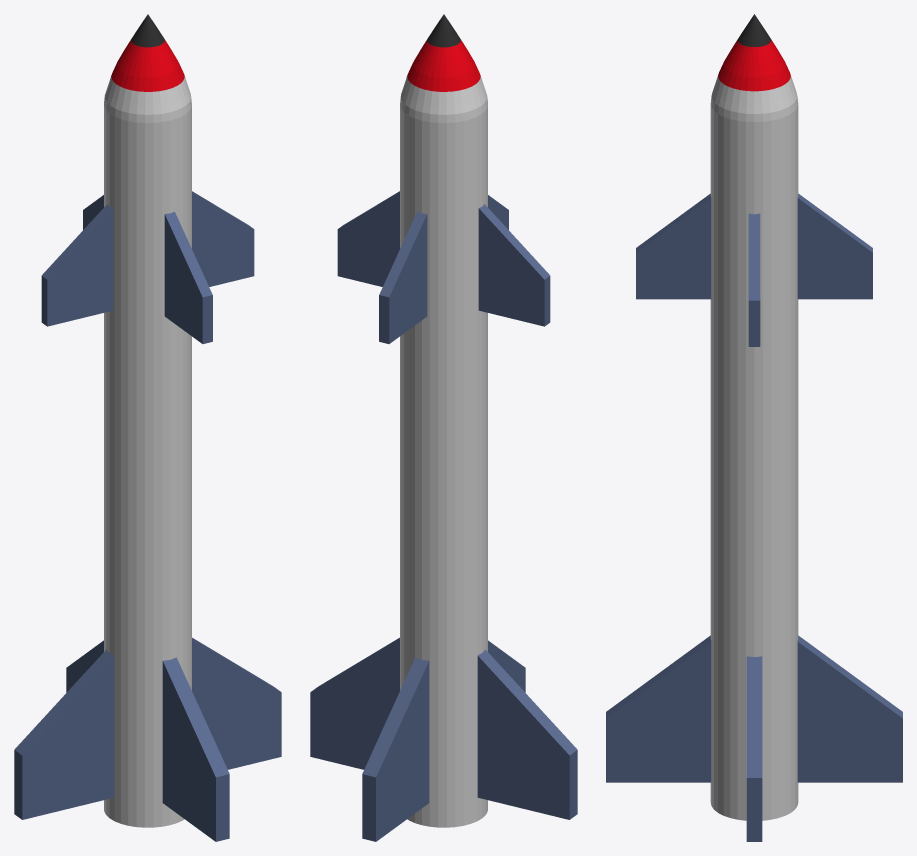
Rendered from missile.glb.
The picture shows the model from 3 angles, left to right: view 1: azimuth 30°, elevation 25°; view 2: azimuth 150°, elevation 25°; view 3: azimuth 270°, elevation 25°; orthographic projection.
Parts seen in each view (by area): view 1: Sphere; view 2: Sphere; view 3: Sphere.
Boxes of the visible parts, bbox=[...] form: Sphere: bbox=[14, 14, 281, 841]; Sphere: bbox=[310, 14, 577, 841]; Sphere: bbox=[606, 14, 902, 841].
Bounding box in the file's own units: 0.5188 × 1.52 × 0.5188.
